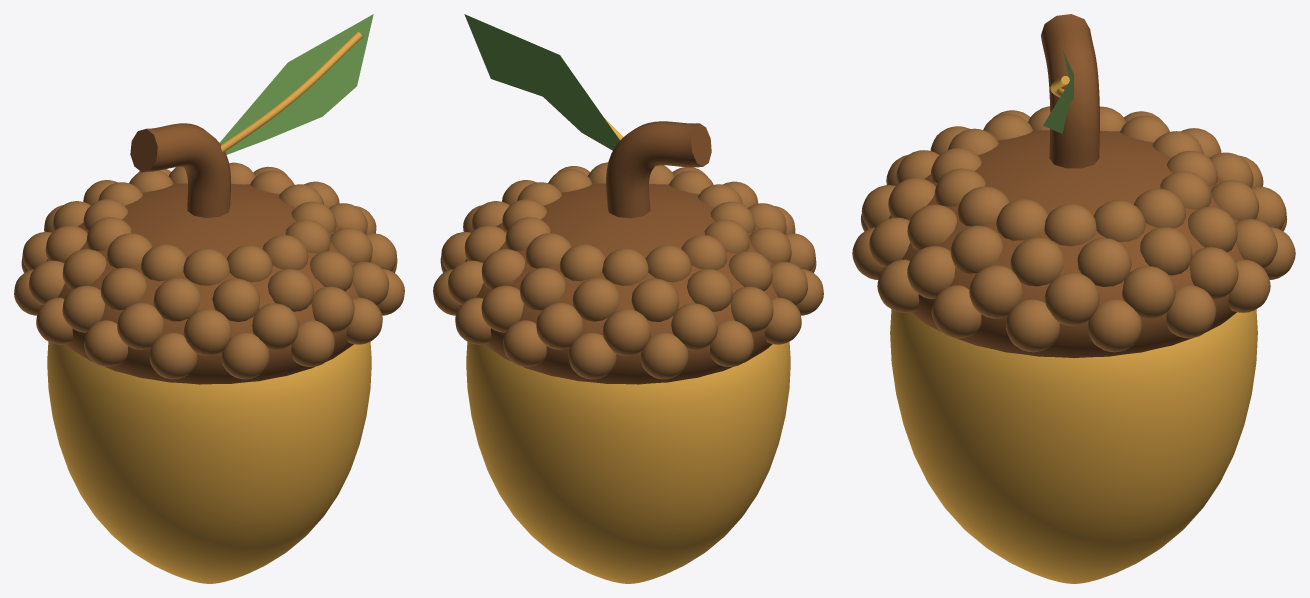
The model's file is Acorn.glb.
3 renders of one model, left to right at view 1: azimuth 30°, elevation 25°; view 2: azimuth 150°, elevation 25°; view 3: azimuth 270°, elevation 25°, orthographic. The views are drawn at different scales.
Visible parts, largest first — view 1: Polished acorn, Acorn cup, Oak leaf, Curled acorn stem, Cup scale.017, Cup scale.003, Cup scale.016, Cup scale.002, Cup scale.018, Cup scale.031, Cup scale.032, Cup scale.004 (+33 smaller); view 2: Polished acorn, Acorn cup, Oak leaf, Curled acorn stem, Cup scale.027, Cup scale.013, Cup scale.026, Cup scale.012, Cup scale.028, Cup scale.041, Cup scale.042, Cup scale.014 (+32 smaller); view 3: Polished acorn, Acorn cup, Curled acorn stem, Cup scale.022, Cup scale.021, Cup scale.008, Cup scale.007, Cup scale.023, Cup scale.036, Cup scale.037, Cup scale.009, Cup scale.006 (+32 smaller).
Part boxes in pixels (x1,y1,x2,y2): Polished acorn: (47,341,371,583); Acorn cup: (41,183,377,384); Oak leaf: (219,14,373,154); Curled acorn stem: (130,123,230,217); Cup scale.017: (183,309,231,355); Cup scale.003: (221,333,269,379); Cup scale.016: (117,302,163,349); Cup scale.002: (149,333,197,379); Cup scale.018: (252,303,298,350); Cup scale.031: (153,278,200,321); Cup scale.032: (212,278,259,321); Cup scale.004: (291,320,334,366); Polished acorn: (466,341,790,583); Acorn cup: (459,183,796,384); Oak leaf: (464,14,619,150); Curled acorn stem: (606,121,711,218); Cup scale.027: (603,309,650,355); Cup scale.013: (640,333,688,379); Cup scale.026: (536,302,582,349); Cup scale.012: (568,333,616,379); Cup scale.028: (671,303,717,350); Cup scale.041: (572,278,620,321); Cup scale.042: (631,278,679,321); Cup scale.014: (710,320,753,366); Polished acorn: (890,309,1257,583); Acorn cup: (883,130,1264,357); Curled acorn stem: (1041,14,1099,168); Cup scale.022: (1044,272,1099,325); Cup scale.021: (969,265,1022,318); Cup scale.008: (1088,299,1142,352); Cup scale.007: (1005,299,1059,352); Cup scale.023: (1122,266,1175,319); Cup scale.036: (1010,237,1064,286); Cup scale.037: (1077,238,1131,286); Cup scale.009: (1166,285,1216,338); Cup scale.006: (931,285,981,338).
Bounding box in the file's own units: 0.7805 × 1.17 × 0.7842.
